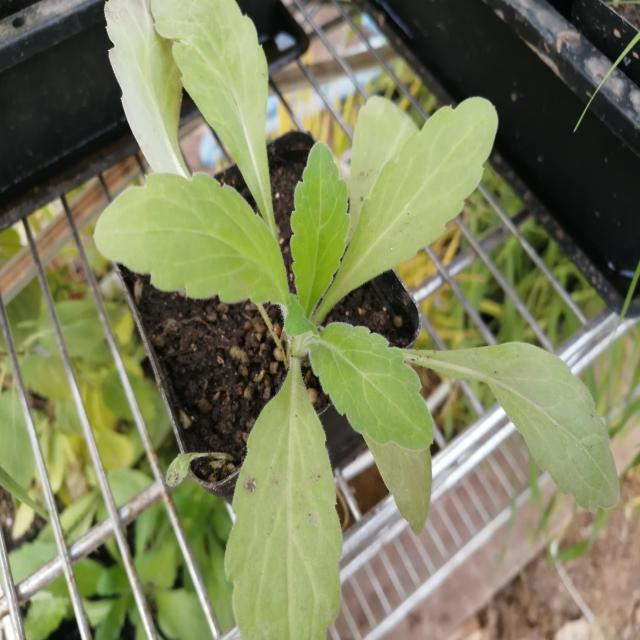horseweed: (114, 37, 607, 623)
